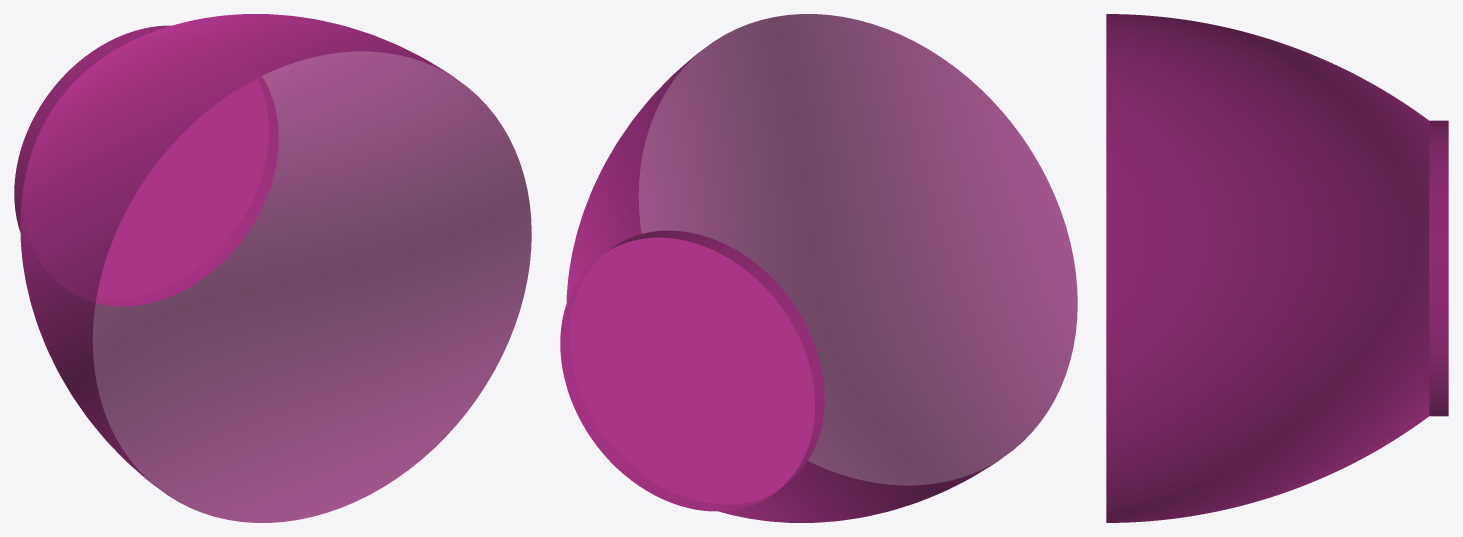
The model's file is model_scale.obj.
3 views of the same model, side by side, from view 1: azimuth 30°, elevation 25°; view 2: azimuth 150°, elevation 25°; view 3: azimuth 270°, elevation 25° (orthographic).
Parts seen in each view (by area): view 1: mesh1_mesh1-geometry; view 2: mesh1_mesh1-geometry; view 3: mesh1_mesh1-geometry.
Part boxes in pixels (x1,y1,x2,y2): mesh1_mesh1-geometry: (14,14,531,522); mesh1_mesh1-geometry: (560,14,1077,522); mesh1_mesh1-geometry: (1106,14,1448,522).
Size of the model in its own units: 0.1568 by 0.1568 by 0.1055.
